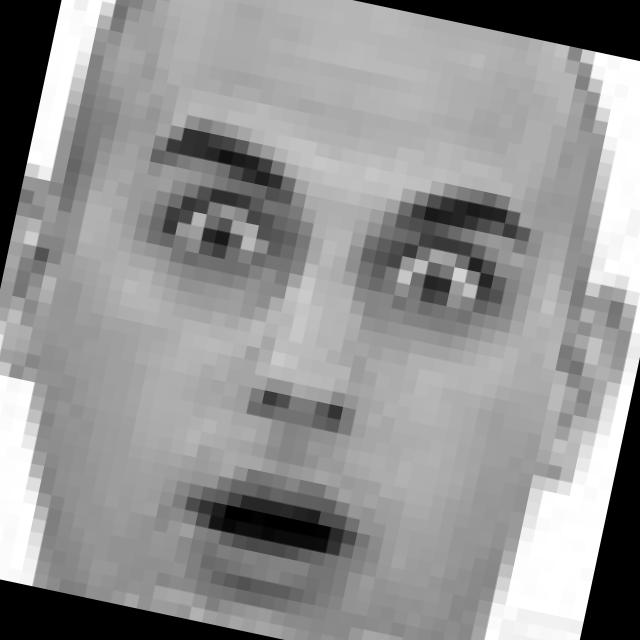surprise: (59, 99, 562, 640)
